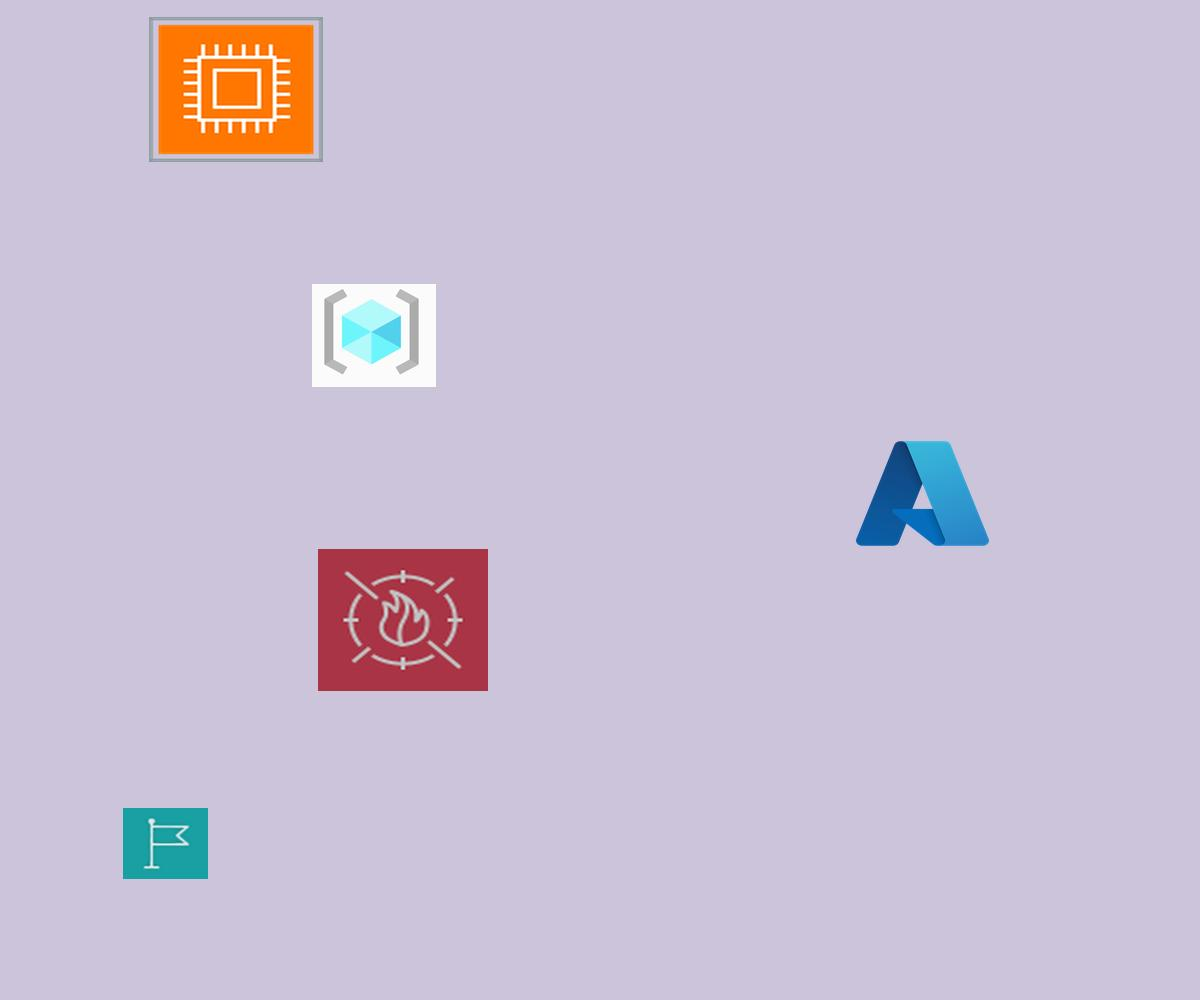AWS-Category_Compute: (149, 17, 323, 162)
AWS-Region: (123, 808, 208, 879)
AWS-WAF: (318, 549, 488, 691)
Azure_resource_group: (312, 284, 436, 387)
Azure_services: (850, 433, 995, 554)
